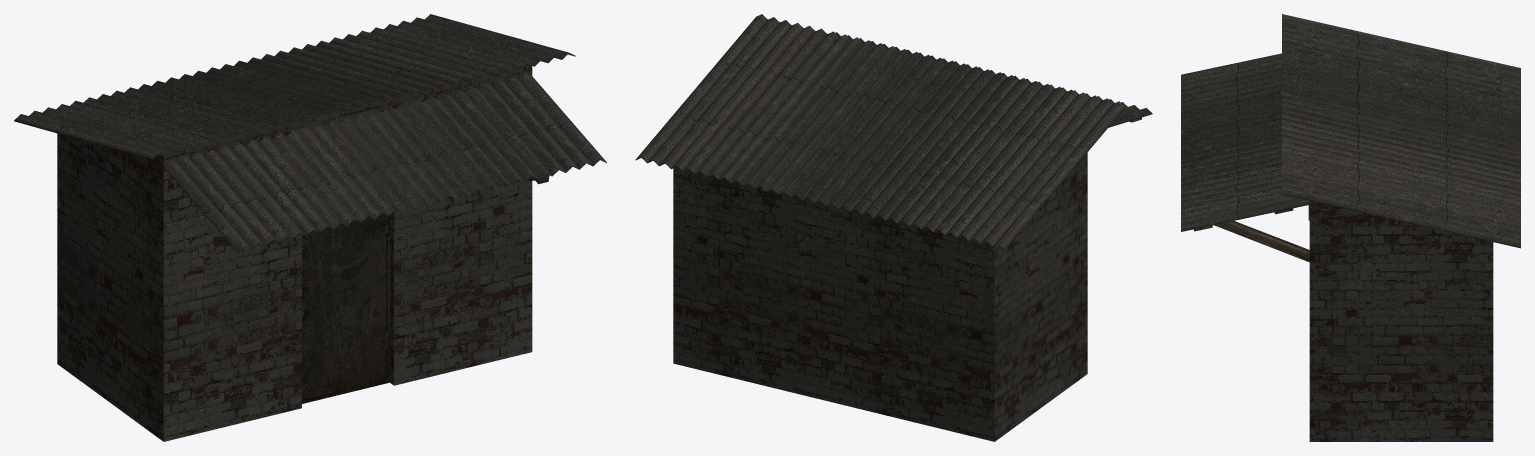
Rendered from shed_ax_2.glb.
The picture shows the model from 3 angles, left to right: view 1: azimuth 30°, elevation 25°; view 2: azimuth 150°, elevation 25°; view 3: azimuth 270°, elevation 25°; orthographic projection. The views are drawn at different scales.
Parts seen in each view (by area): view 1: shed_ax_2, door_hr_3; view 2: shed_ax_2; view 3: shed_ax_2.
Part boxes in pixels (box(x1,y1,x2,y2)): shed_ax_2: box(14, 14, 606, 441); door_hr_3: box(302, 213, 389, 403); shed_ax_2: box(635, 14, 1152, 441); shed_ax_2: box(1181, 14, 1520, 441).
Size of the model in its own units: 4.59 by 3.17 by 3.7.
Materials: 5 (5 with a texture image).
